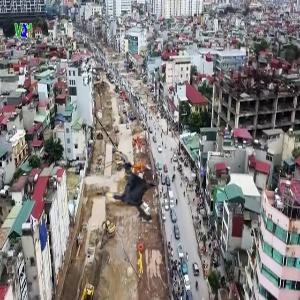drone: (93, 150, 174, 231)
